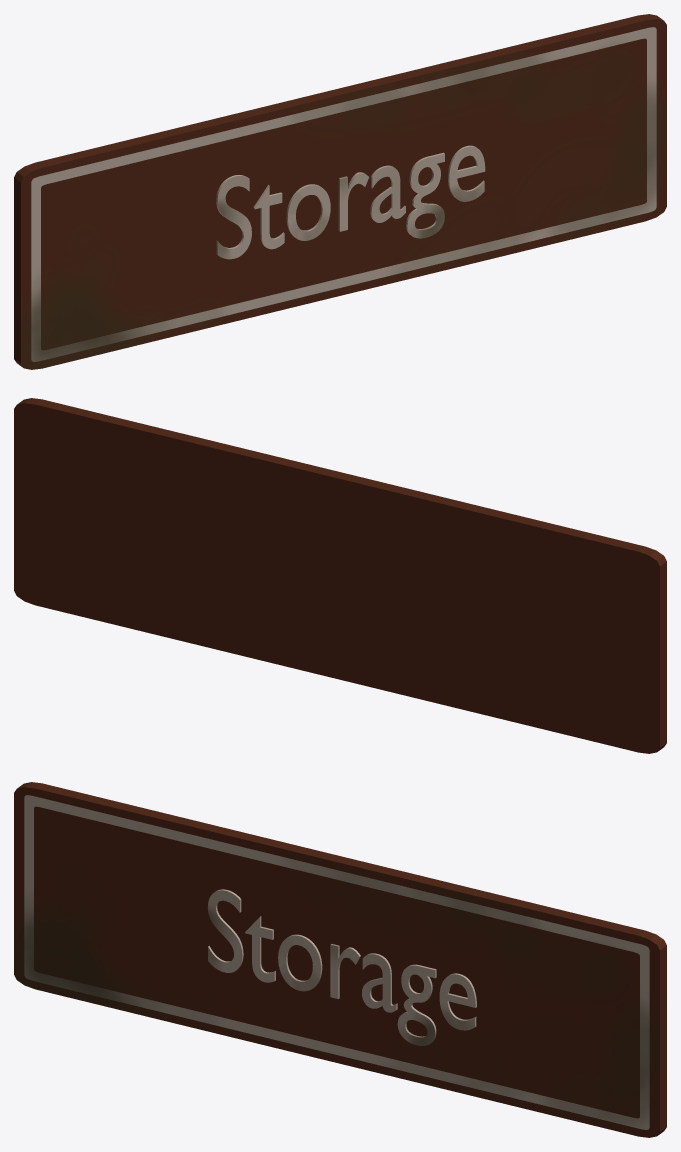
File: storage-sign.fbx
3 renders of one model, top to bottom at view 1: azimuth 30°, elevation 25°; view 2: azimuth 150°, elevation 25°; view 3: azimuth 330°, elevation 25°, orthographic.
Visible parts, largest first — view 1: storage-kyltti, storage; view 2: storage-kyltti; view 3: storage-kyltti, storage.
Boxes of the visible parts, x1,y1,x2,y2 form: storage-kyltti: (14,14,666,369); storage: (216,145,485,259); storage-kyltti: (14,398,666,753); storage-kyltti: (14,782,666,1137); storage: (207,889,476,1045).
Size of the model in its own units: 81.37 by 24.18 by 1.83.
2 materials, 2 textured.
